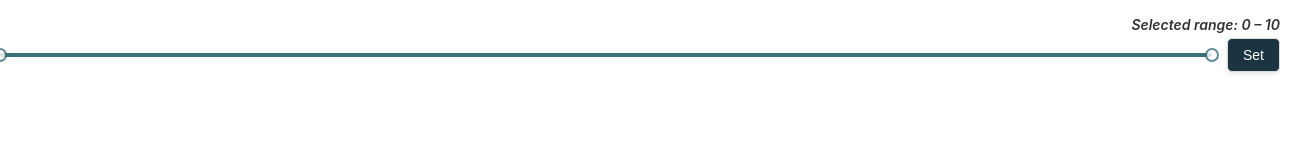
Test: <RangePicker /> › allows double-click to edit range values
Double-click the text "Selected range: 0 – 10": {"x": 1206, "y": 24} x1=1131 y1=16 x2=1280 y2=33
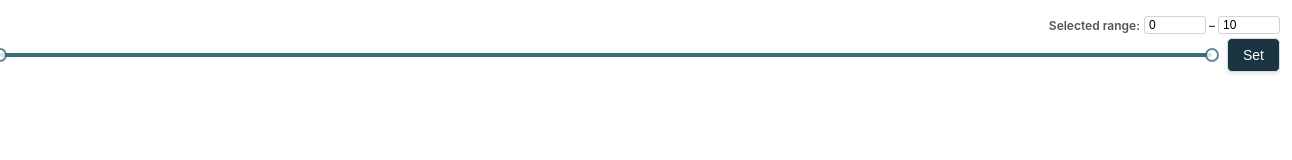
Now the number of number fields is 2, box x1=1144 y1=16 x2=1206 y2=34; x1=1218 y1=16 x2=1280 y2=34
